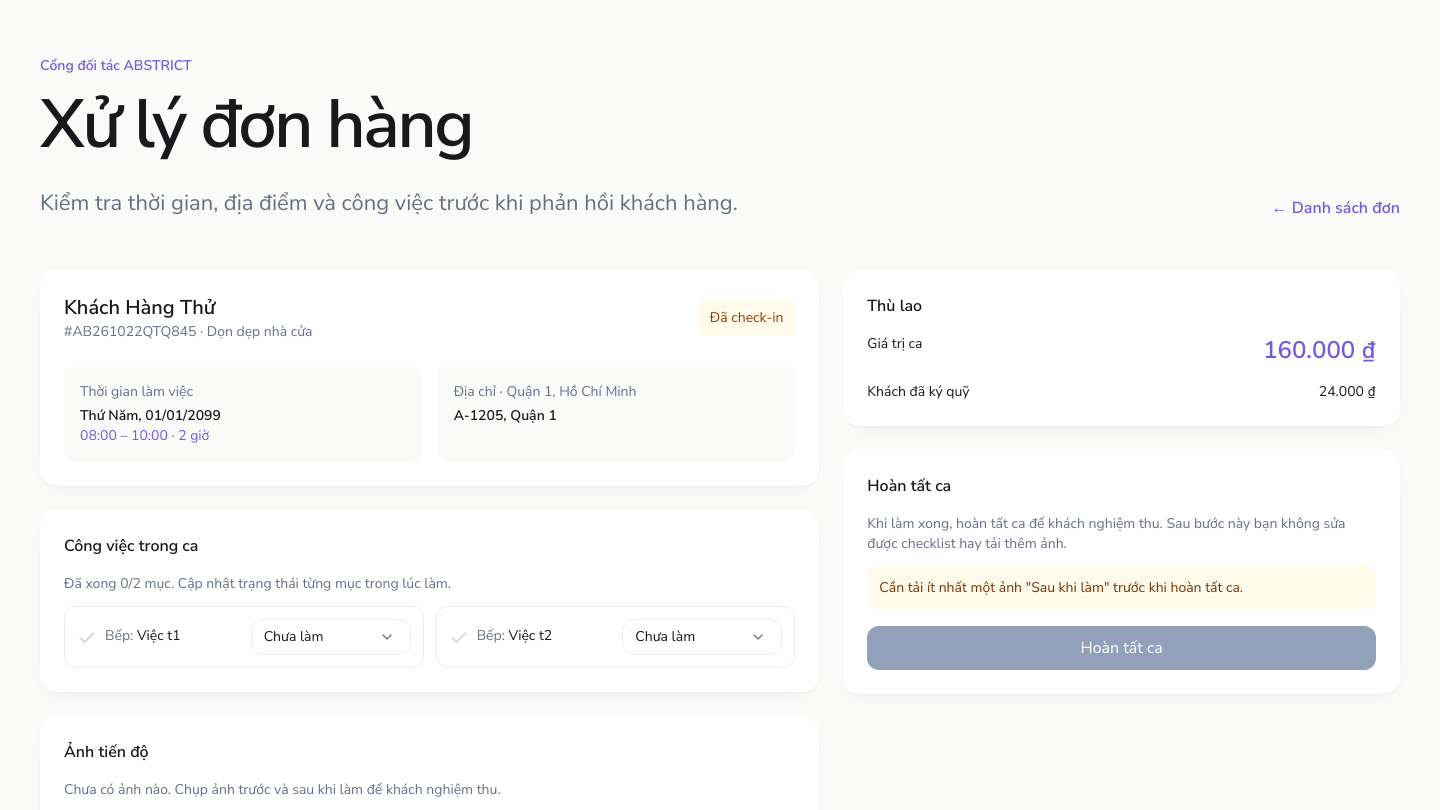
freelancer working the shift › updates a checklist item and shows the progress
Check: the text "Đã xong 0/2 mục. Cập nhật trạng thái từng mục trong lúc làm." is shown, box [64,574,451,593]
Select "Đã xong" in the dropdown named "Trạng thái: Bếp - Việc t1" at (331, 637), box [251,619,411,655]
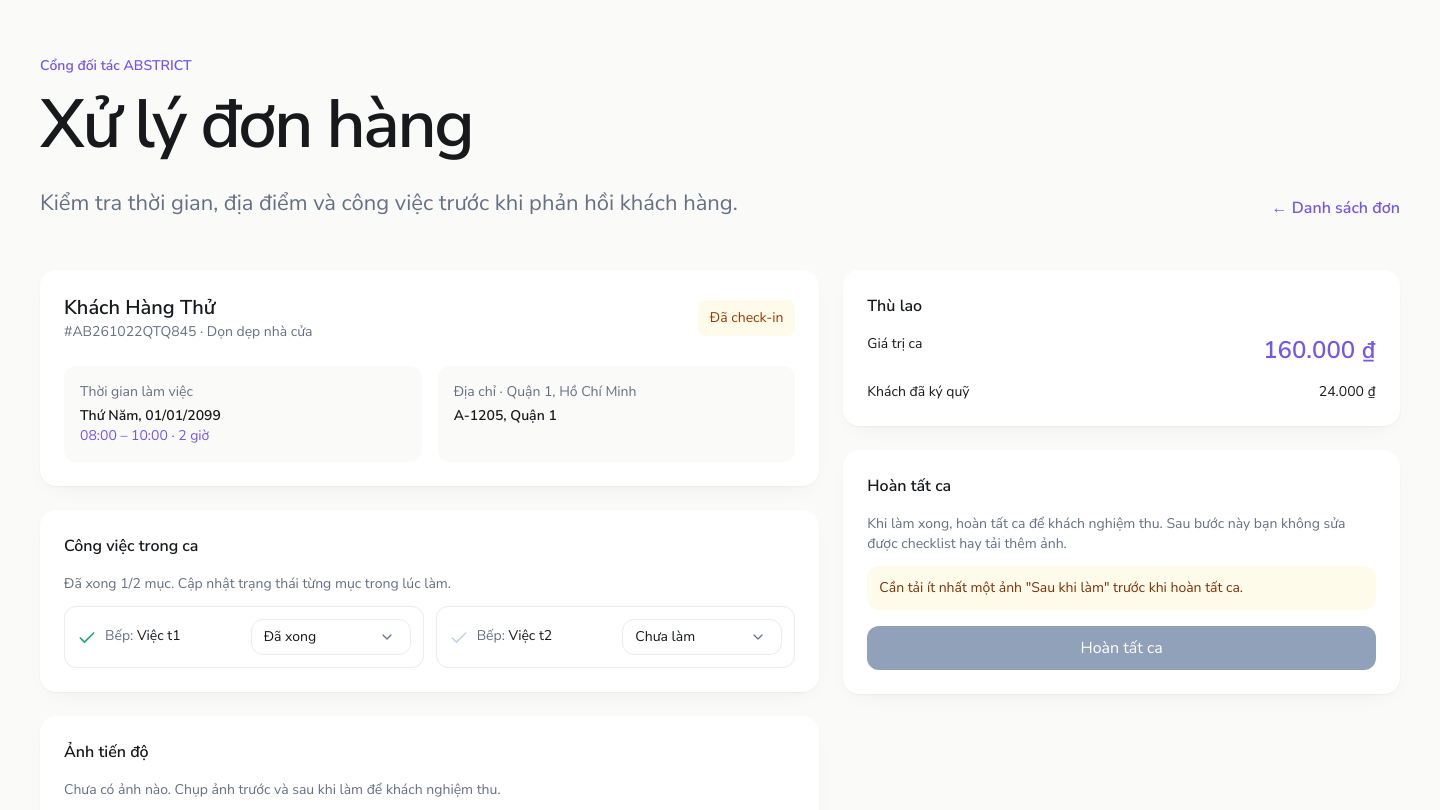
Check: the text "Đã xong 1/2 mục. Cập nhật trạng thái từng mục trong lúc làm." is shown, box [64,574,451,593]
